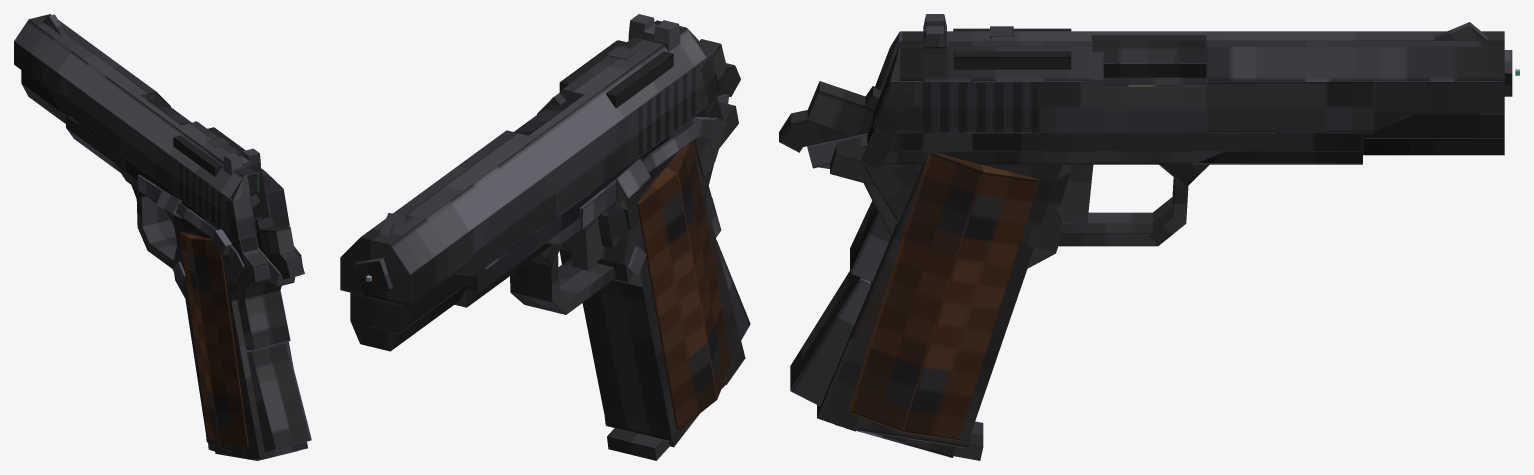
The picture shows the model from 3 angles, left to right: view 1: azimuth 30°, elevation 25°; view 2: azimuth 150°, elevation 25°; view 3: azimuth 270°, elevation 25°; orthographic projection. The views are drawn at different scales.
Visible parts, largest first — view 1: gun, slide, hammer, sightmount; view 2: gun, slide, sightmount, magazine, hammer; view 3: gun, slide, hammer, sightmount, magazine.
Part boxes in pixels (left/top/right/bottom): gun: left=66, top=99, right=311, bottom=459; slide: left=14, top=14, right=289, bottom=238; hammer: left=255, top=216, right=304, bottom=279; sightmount: left=173, top=127, right=245, bottom=176; gun: left=353, top=94, right=750, bottom=441; slide: left=340, top=14, right=720, bottom=351; sightmount: left=559, top=40, right=673, bottom=108; magazine: left=607, top=414, right=699, bottom=460; hammer: left=700, top=39, right=740, bottom=96; gun: left=790, top=40, right=1512, bottom=448; slide: left=872, top=14, right=1504, bottom=155; hammer: left=779, top=81, right=882, bottom=152; sightmount: left=953, top=28, right=1071, bottom=69; magazine: left=834, top=421, right=983, bottom=460.
Size of the model in its own units: 29.39 by 124 by 196.
